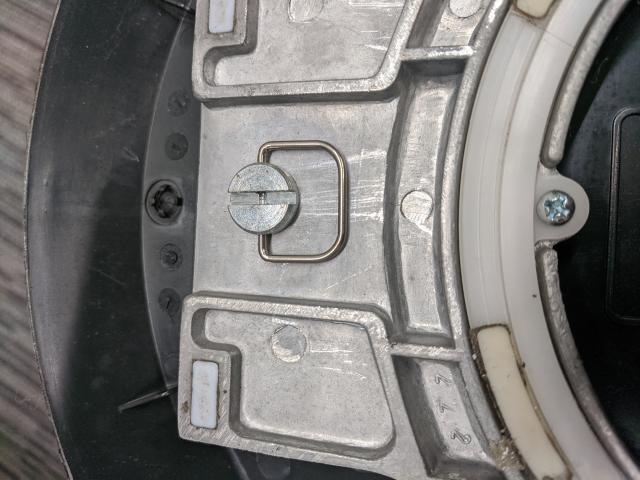CRS: (535, 190, 576, 224)
